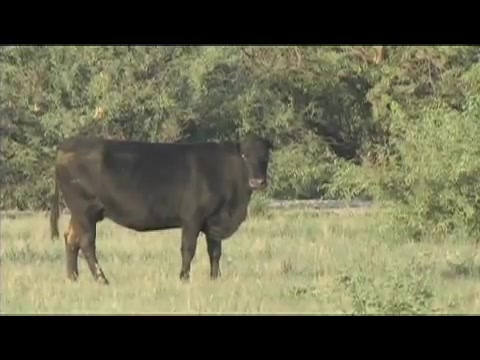cow: (51, 132, 275, 286)
